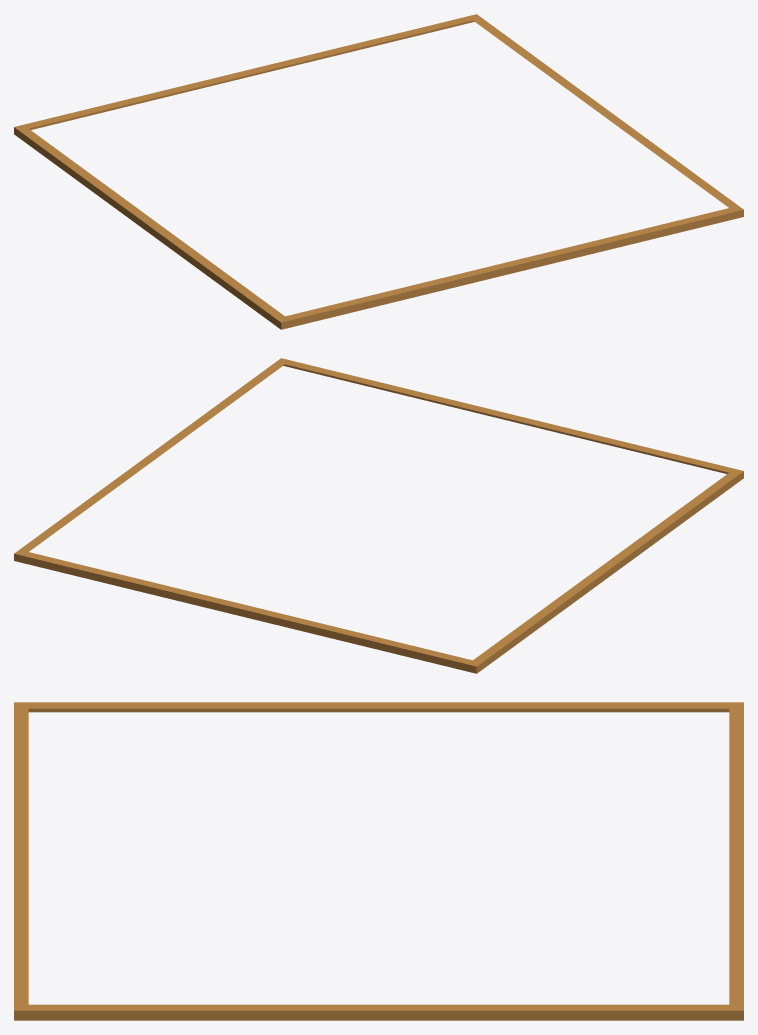
The model's file is floor-3.gltf.
3 views of the same model, one above another, from view 1: azimuth 30°, elevation 25°; view 2: azimuth 150°, elevation 25°; view 3: azimuth 270°, elevation 25° (orthographic). The views are drawn at different scales.
Visible parts, largest first — view 1: Plane.026; view 2: Plane.026; view 3: Plane.026.
Boxes of the visible parts, x1,y1,x2,y2 form: Plane.026: [14, 14, 743, 329]; Plane.026: [14, 358, 743, 673]; Plane.026: [14, 702, 743, 1020].
Size of the model in its own units: 1.93 by 0.0288 by 1.93.
1 material, 1 textured.
